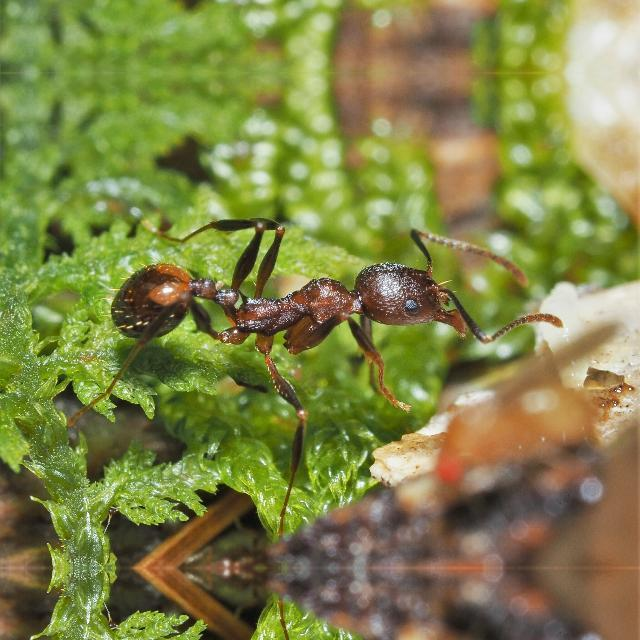Apheanogaster: (88, 222, 490, 394)
